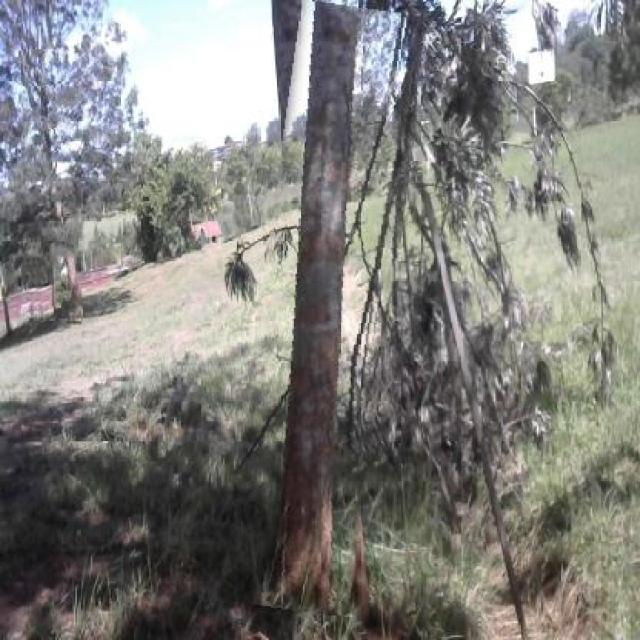tree trunk: (238, 2, 410, 613), (23, 48, 79, 320)
